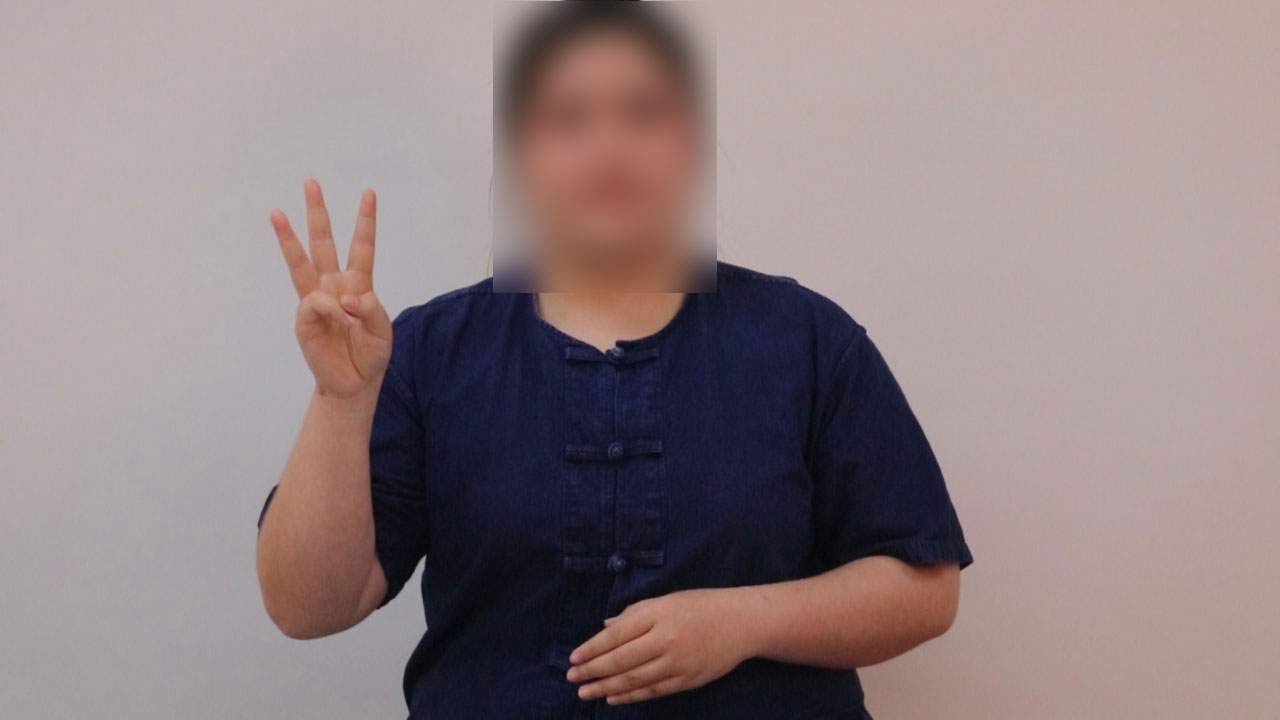wor: (260, 168, 404, 410)
